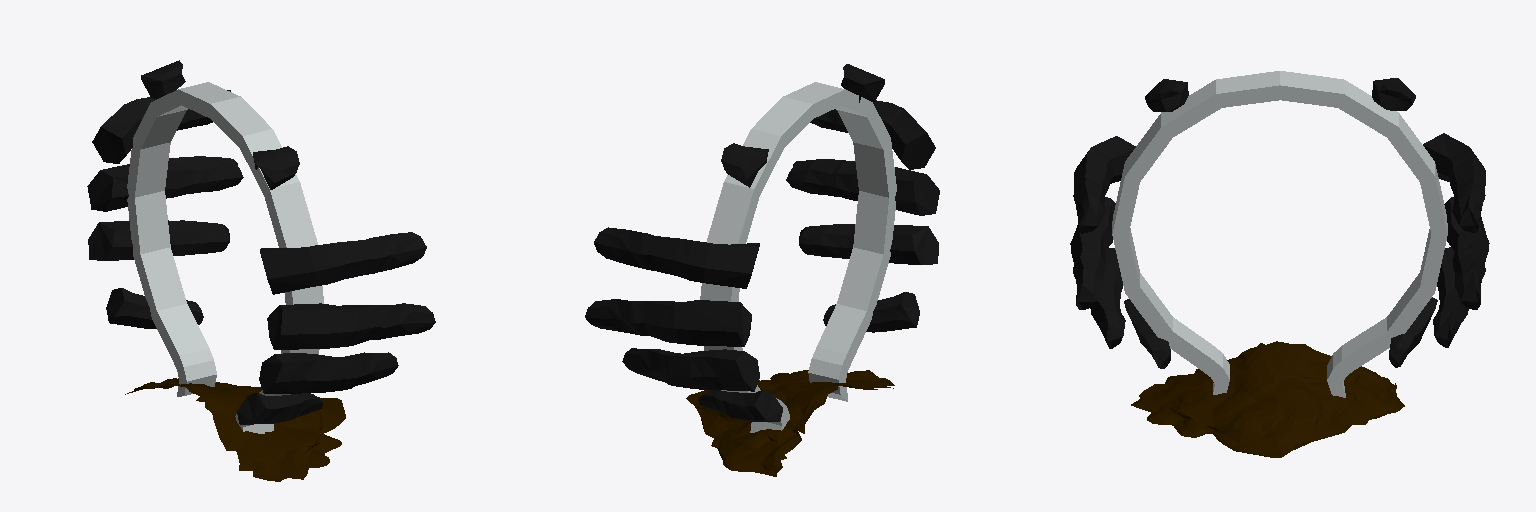
Rendered from PortalMano.obj.
3 views of the same model, side by side, from view 1: azimuth 30°, elevation 25°; view 2: azimuth 150°, elevation 25°; view 3: azimuth 270°, elevation 25° (orthographic).
Visible parts, largest first — view 1: node_Mountain3_-[number redacted].006_mesh_Group51674_12268Mountain3.618; view 2: node_Mountain3_-[number redacted].006_mesh_Group51674_12268Mountain3.618; view 3: node_Mountain3_-[number redacted].006_mesh_Group51674_12268Mountain3.618.
Boxes of the visible parts, x1,y1,x2,y2 form: node_Mountain3_-[number redacted].006_mesh_Group51674_12268Mountain3.618: [87, 60, 435, 481]; node_Mountain3_-[number redacted].006_mesh_Group51674_12268Mountain3.618: [585, 64, 939, 476]; node_Mountain3_-[number redacted].006_mesh_Group51674_12268Mountain3.618: [1070, 71, 1489, 457].
Size of the model in its own units: 2.4 by 4.53 by 5.28.